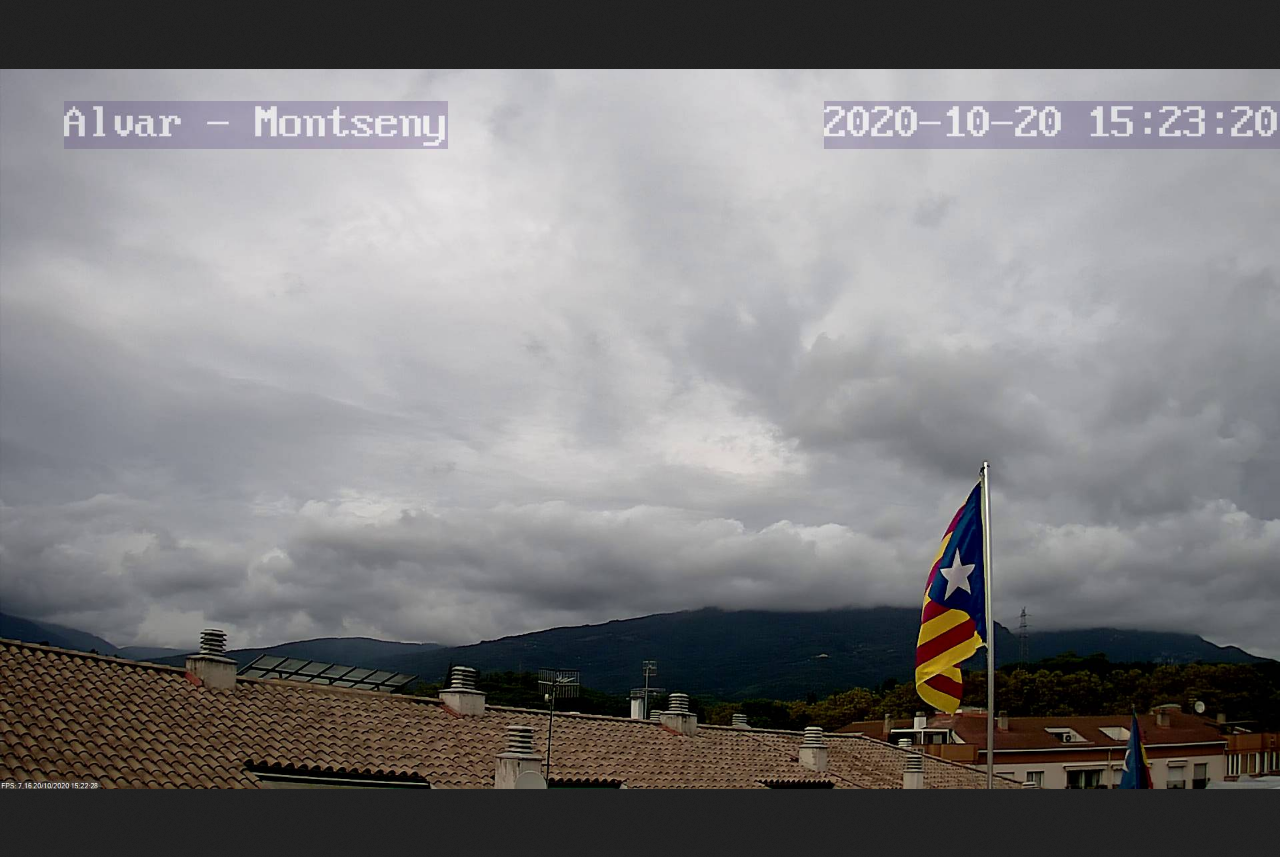no: (905, 445, 1002, 724)
